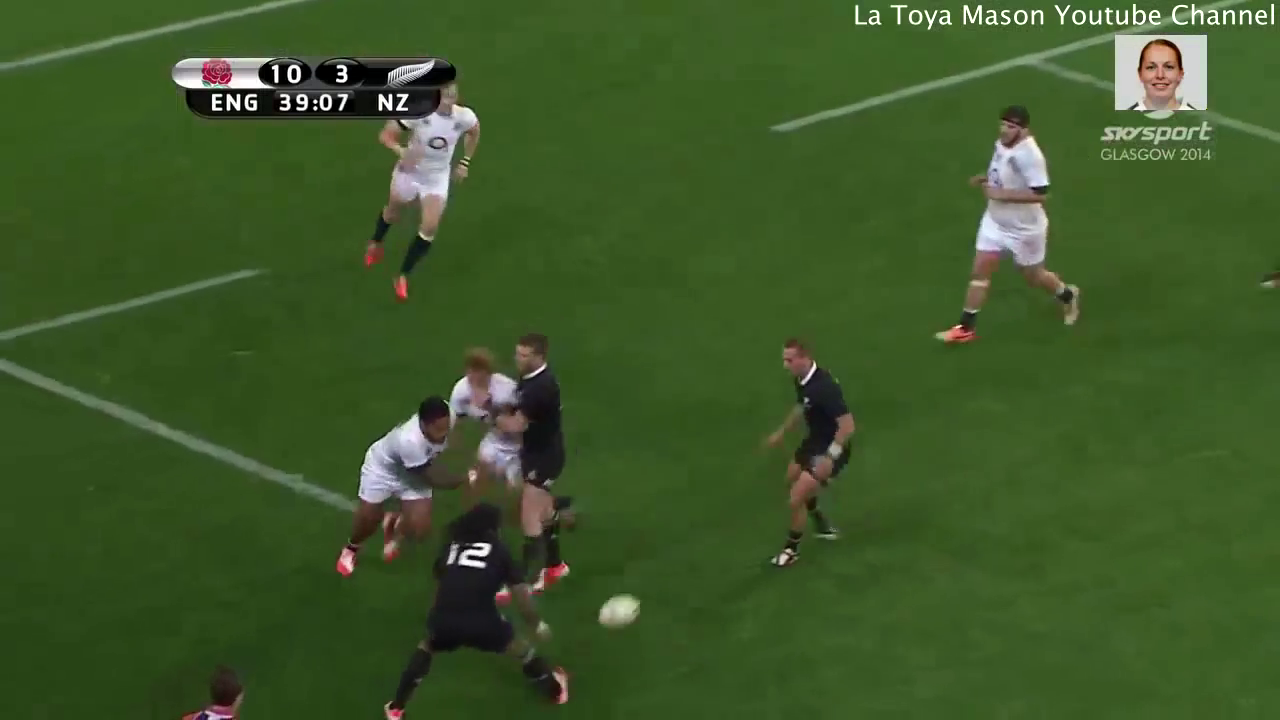ball: (589, 582, 650, 647)
player: (374, 495, 582, 720), (928, 100, 1105, 352), (349, 68, 488, 311), (741, 326, 860, 576), (489, 327, 590, 604), (330, 388, 461, 587), (429, 332, 540, 543), (163, 655, 260, 720)
